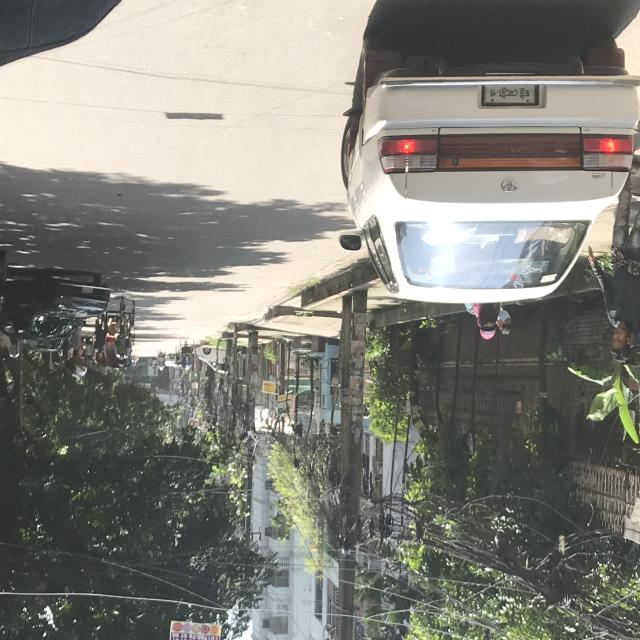white: (338, 33, 638, 308)
